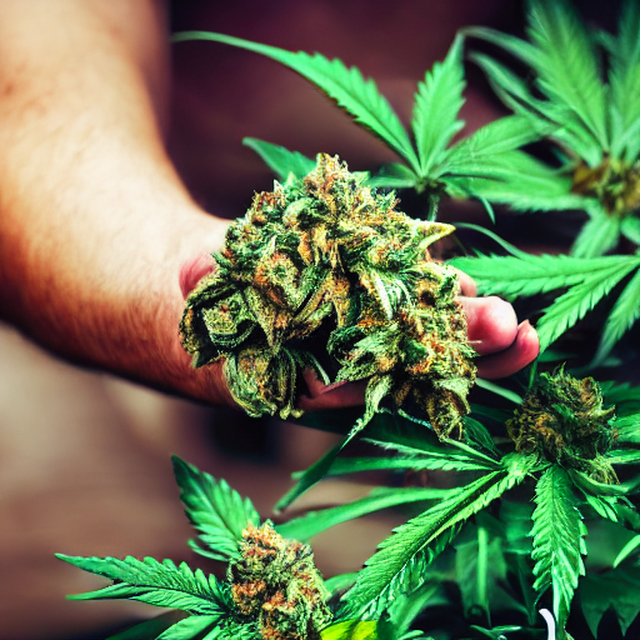Marijuana Joint: (103, 60, 560, 622)
